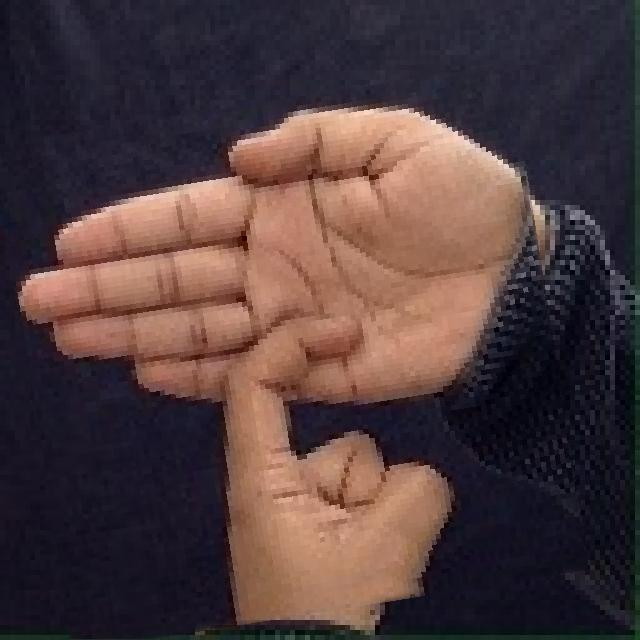R: (9, 82, 570, 633)
